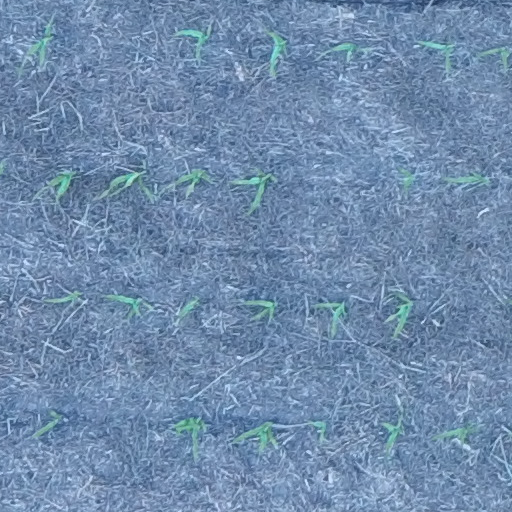planta: (232, 168, 276, 214), (108, 168, 160, 199), (233, 421, 277, 453), (173, 418, 207, 457), (176, 168, 212, 199), (389, 291, 412, 338), (28, 22, 53, 63), (106, 293, 144, 319), (419, 41, 451, 71), (316, 302, 346, 334), (430, 424, 475, 443), (32, 410, 62, 438), (176, 30, 207, 57), (268, 31, 287, 74), (50, 170, 77, 199), (381, 418, 402, 450), (244, 299, 274, 319), (480, 47, 509, 66), (43, 290, 81, 304), (446, 172, 490, 184), (179, 297, 201, 319), (398, 166, 415, 190), (311, 420, 326, 443), (333, 42, 357, 54)
